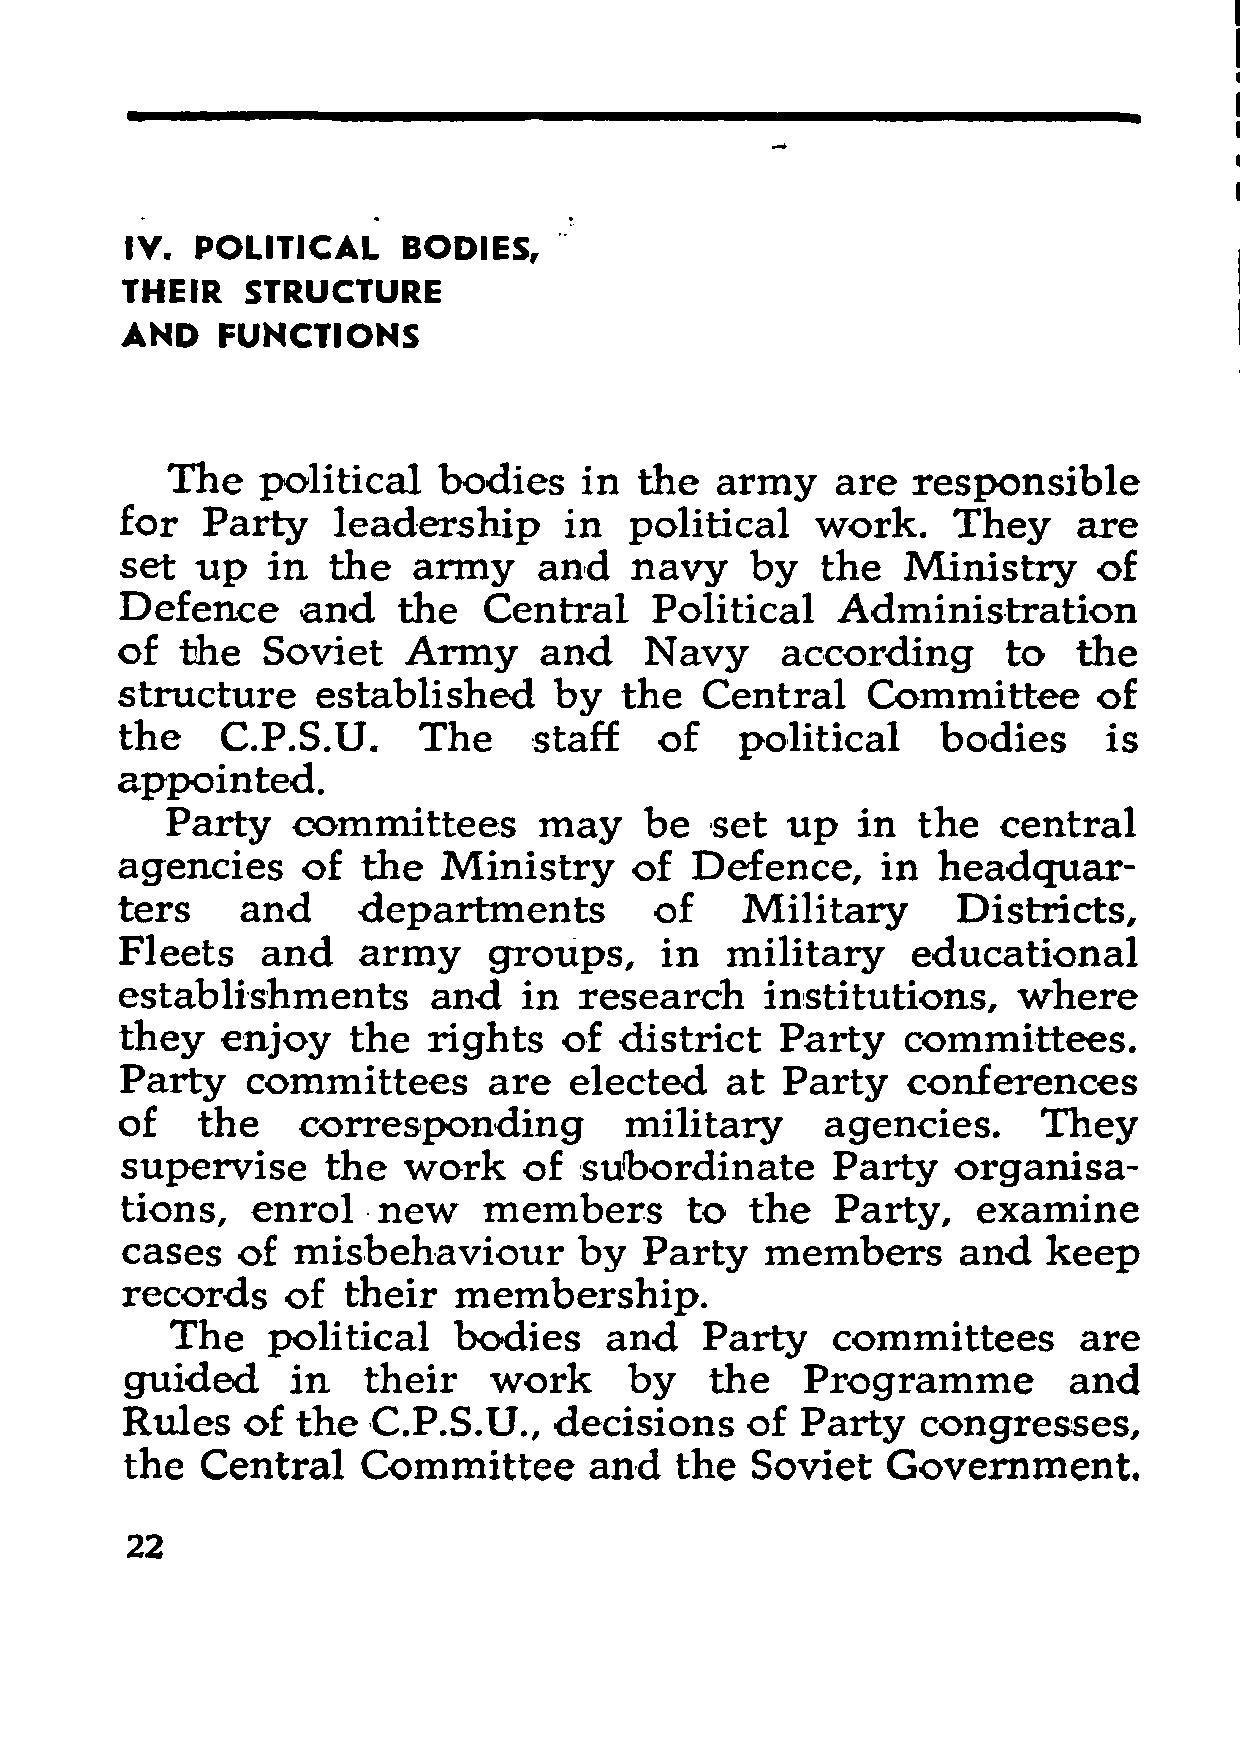chapter: (119, 231, 539, 352)
content: (114, 458, 1139, 1486)
content_pagenumber: (119, 1529, 169, 1563)
